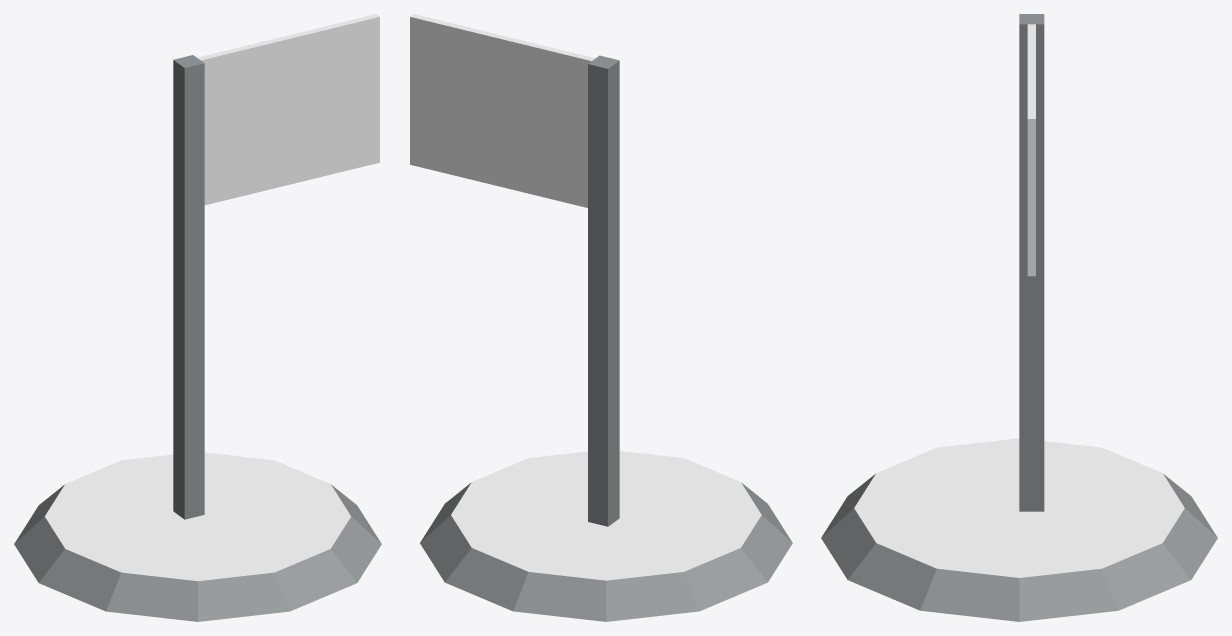
File: flag_and_point.dae
3 renders of one model, left to right at view 1: azimuth 30°, elevation 25°; view 2: azimuth 150°, elevation 25°; view 3: azimuth 270°, elevation 25°, orthographic. The views are drawn at different scales.
Parts seen in each view (by area): view 1: Point, cube (×2); view 2: Point, cube (×2); view 3: Point, cube (×2).
Boxes of the visible parts, left/top/right/bottom form: Point: left=14, top=452, right=381, bottom=621; cube (×2): left=173, top=14, right=379, bottom=519; Point: left=420, top=451, right=792, bottom=621; cube (×2): left=410, top=14, right=619, bottom=526; Point: left=821, top=438, right=1217, bottom=621; cube (×2): left=1019, top=14, right=1044, bottom=511.
Bounding box in the file's own units: 3.25 × 4.31 × 3.
1 material, 1 textured.
